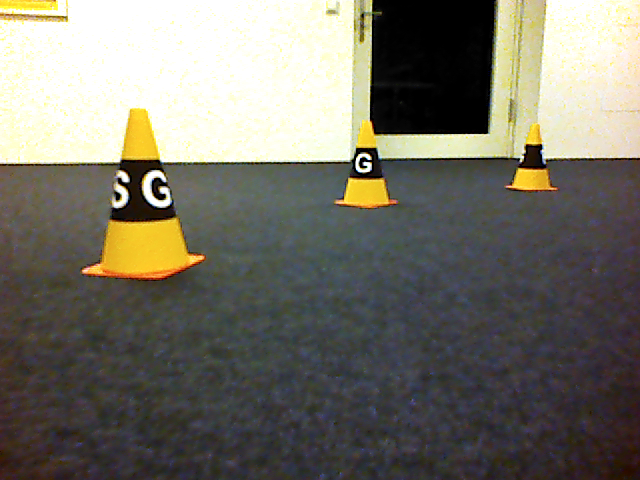yellowcone: (76, 106, 207, 279), (335, 120, 400, 209), (506, 124, 559, 193)
